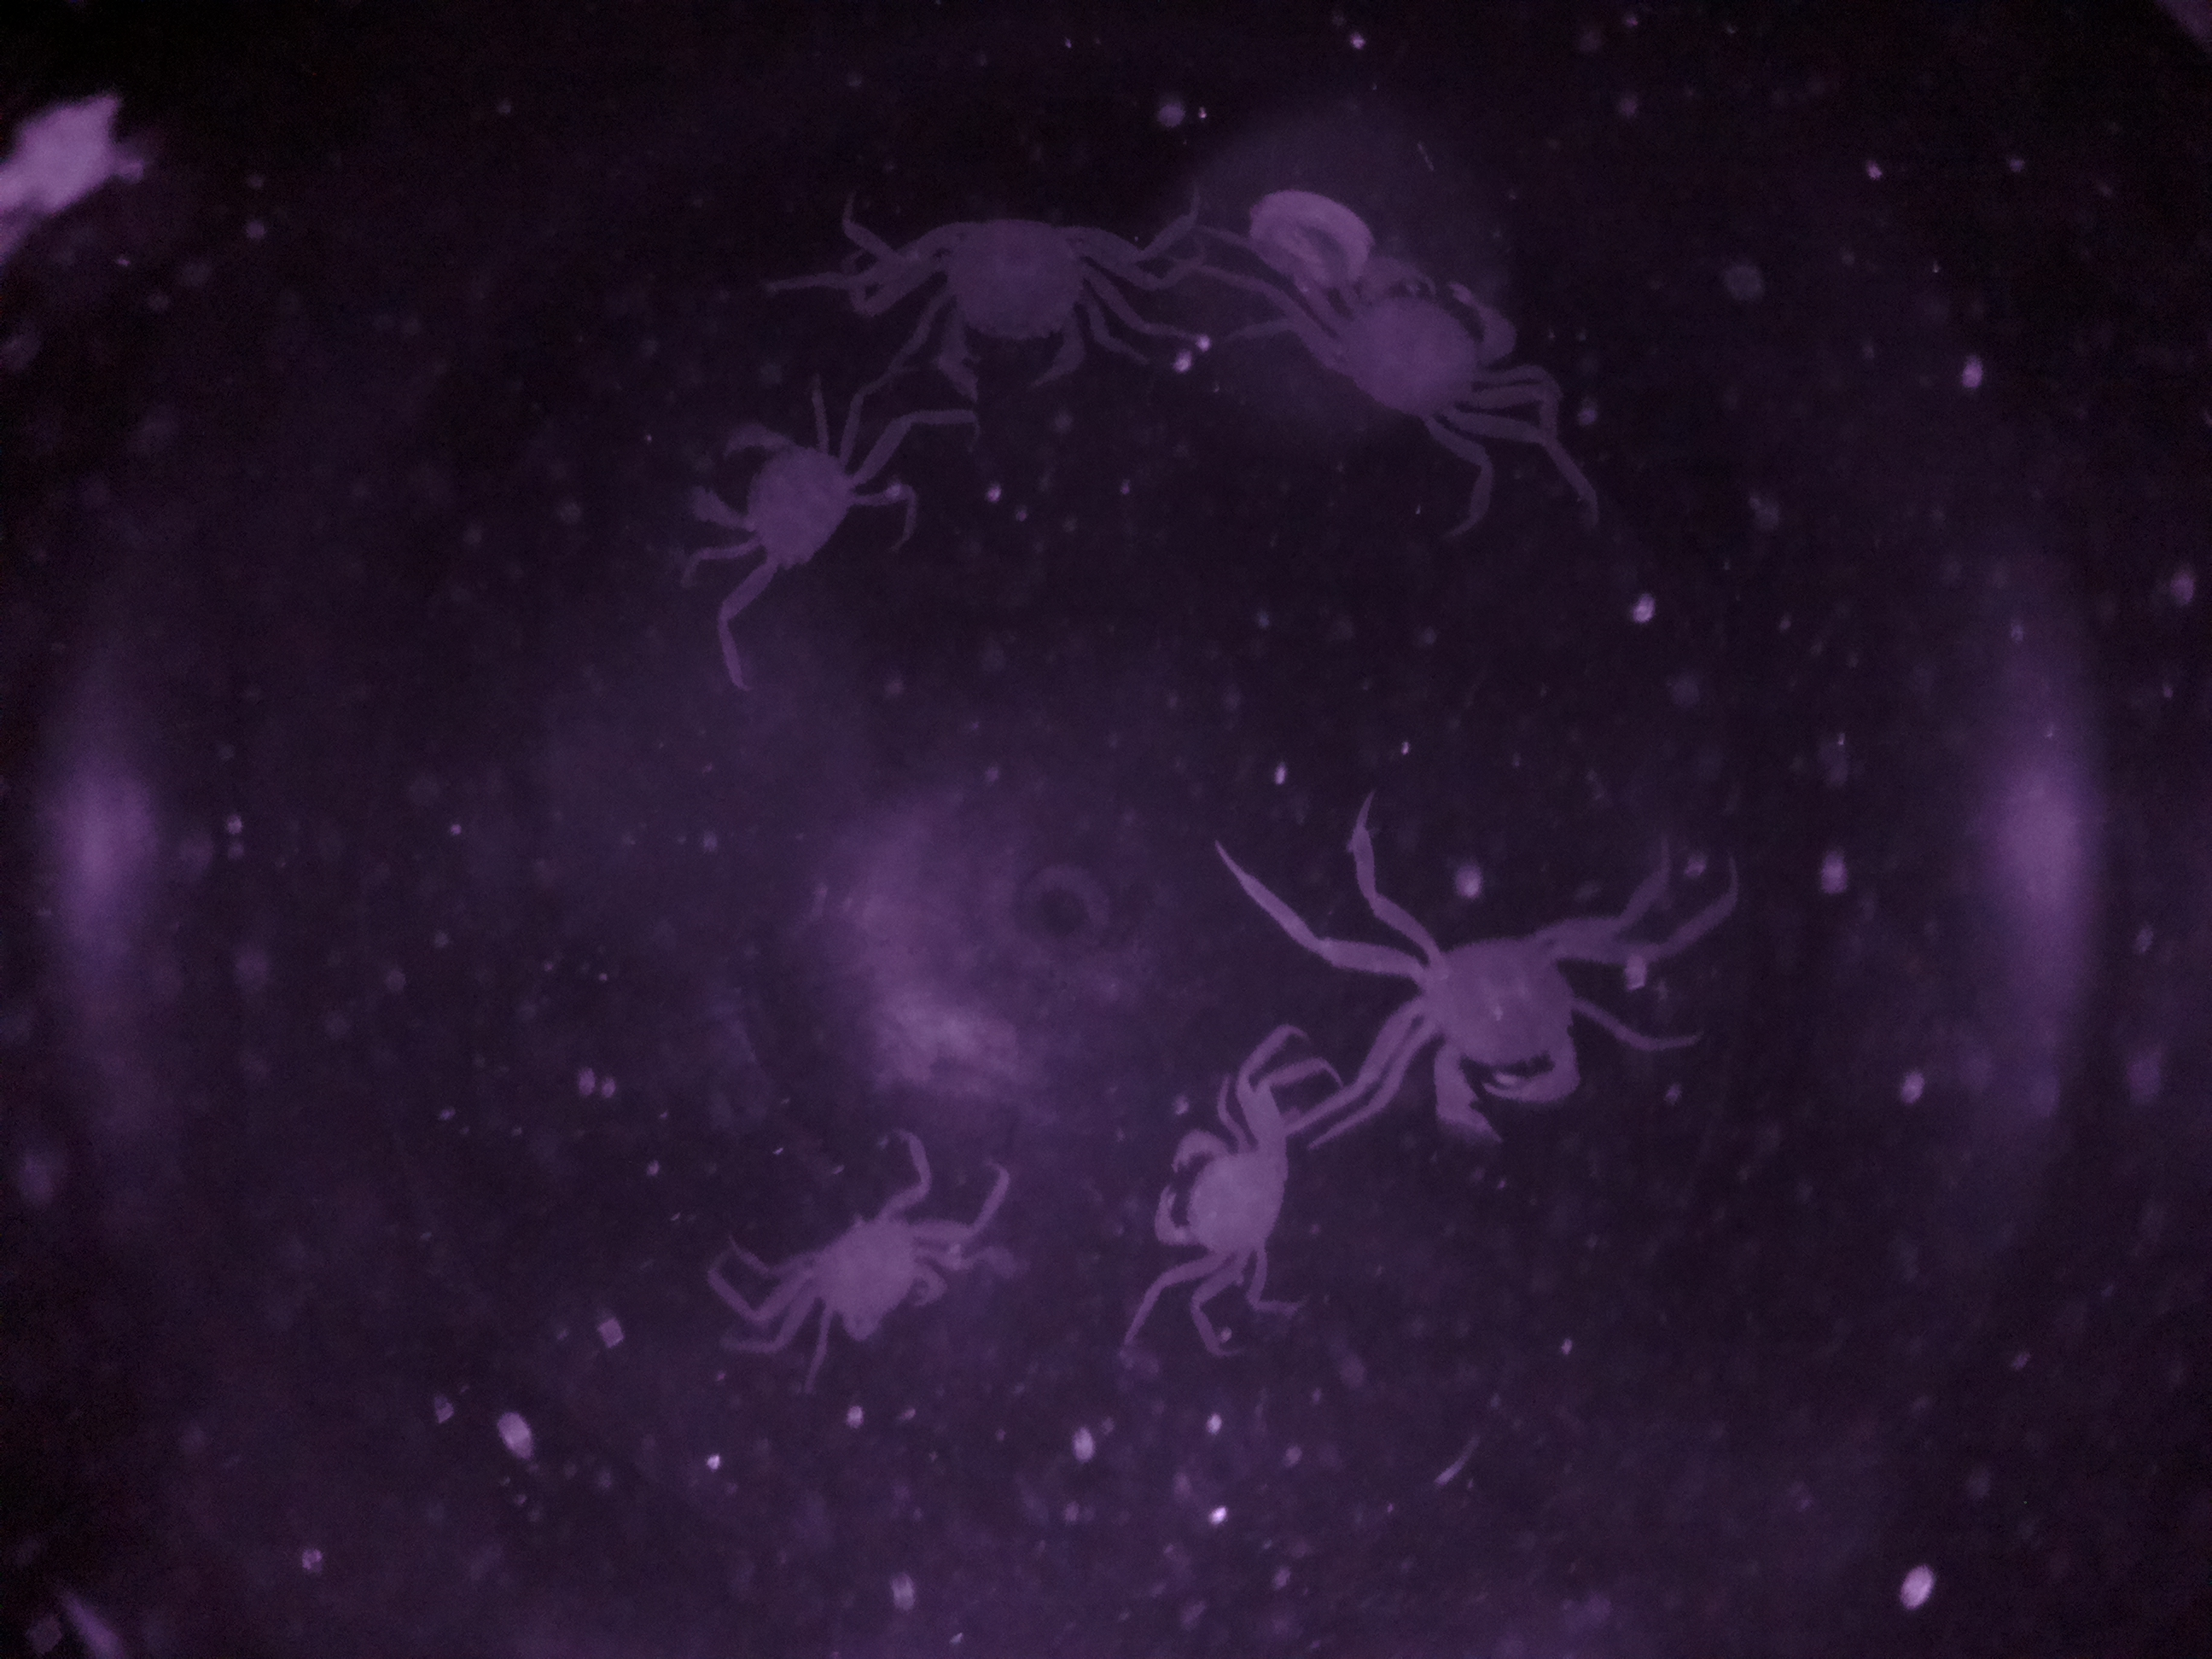Crab: (1332, 903, 1660, 1162), (1266, 220, 1562, 474), (883, 183, 1172, 436), (655, 401, 928, 641), (751, 1166, 988, 1377), (1148, 1086, 1318, 1309)
